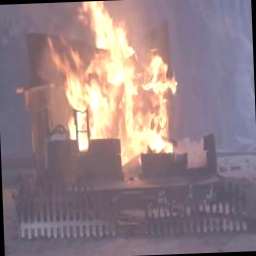fire: (41, 0, 196, 162)
